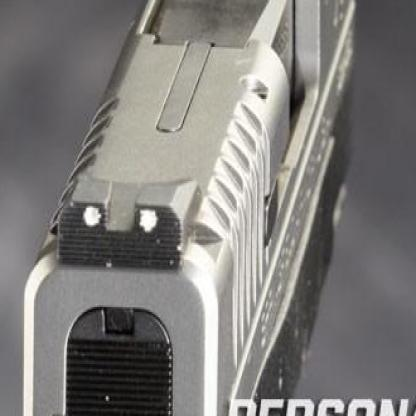gun: (9, 0, 388, 388)
